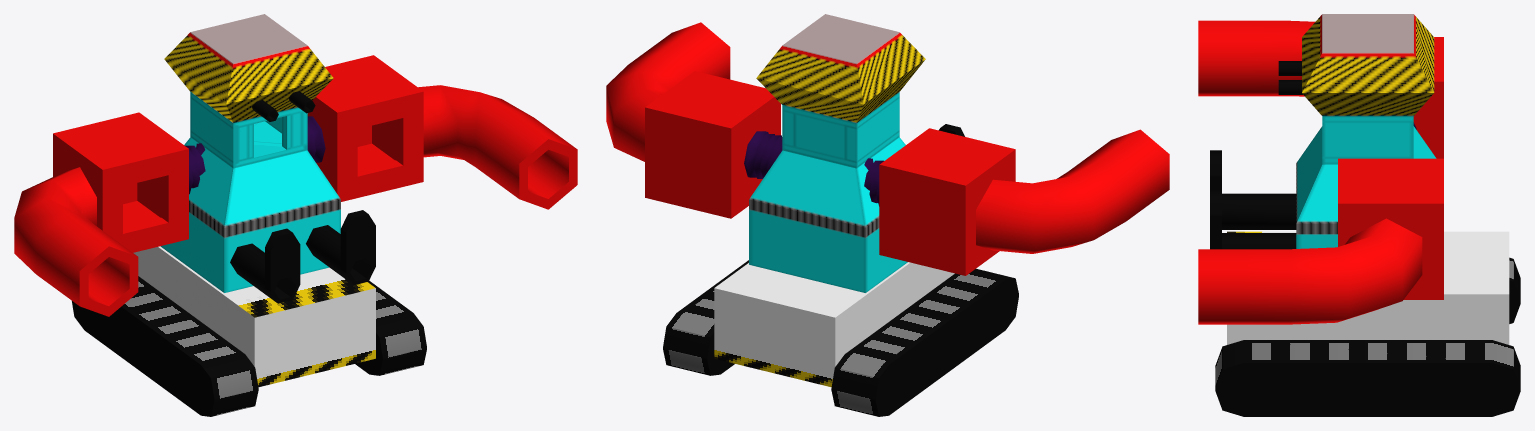
Rendered from MegaGenie.fbx.
3 views of the same model, side by side, from view 1: azimuth 30°, elevation 25°; view 2: azimuth 150°, elevation 25°; view 3: azimuth 270°, elevation 25° (orthographic). The views are drawn at different scales.
Visible parts, largest first — view 1: Box003, Box002, Box005, Box007, Box001, Tube002, Tube001, Box006, Cylinder001, Cylinder003, Hose002, Hose001; view 2: Box003, Box002, Box007, Box001, Tube001, Box005, Tube002, Box006, Hose002, Hose001; view 3: Box006, Box003, Tube002, Box002, Box007, Tube001, Cylinder001, Cylinder003, Box005, Box001, Cylinder004, Cylinder002.
Boxes of the visible parts, x1=… form: Box003: x1=160, y1=14, x2=340, y2=292; Box002: x1=133, y1=246, x2=375, y2=387; Box005: x1=53, y1=112, x2=188, y2=252; Box007: x1=307, y1=55, x2=423, y2=201; Box001: x1=72, y1=276, x2=258, y2=416; Tube002: x1=418, y1=85, x2=577, y2=209; Tube001: x1=14, y1=167, x2=138, y2=316; Box006: x1=355, y1=280, x2=426, y2=375; Cylinder001: x1=230, y1=228, x2=300, y2=303; Cylinder003: x1=306, y1=210, x2=375, y2=284; Hose002: x1=307, y1=116, x2=325, y2=162; Hose001: x1=185, y1=143, x2=205, y2=194; Box003: x1=749, y1=14, x2=925, y2=292; Box002: x1=714, y1=262, x2=954, y2=387; Box007: x1=645, y1=71, x2=780, y2=218; Box001: x1=831, y1=268, x2=1018, y2=416; Tube001: x1=976, y1=129, x2=1169, y2=253; Box005: x1=879, y1=128, x2=1015, y2=275; Tube002: x1=606, y1=22, x2=730, y2=161; Box006: x1=663, y1=260, x2=748, y2=375; Hose002: x1=744, y1=131, x2=782, y2=178; Hose001: x1=864, y1=158, x2=883, y2=206; Box006: x1=1215, y1=340, x2=1520, y2=416; Box003: x1=1296, y1=14, x2=1436, y2=248; Tube002: x1=1198, y1=218, x2=1422, y2=324; Box002: x1=1227, y1=231, x2=1509, y2=344; Box007: x1=1338, y1=158, x2=1443, y2=299; Tube001: x1=1198, y1=20, x2=1315, y2=96; Cylinder001: x1=1210, y1=150, x2=1296, y2=229; Cylinder003: x1=1210, y1=189, x2=1296, y2=249; Box005: x1=1413, y1=37, x2=1443, y2=158; Box001: x1=1509, y1=257, x2=1520, y2=323; Cylinder004: x1=1278, y1=80, x2=1302, y2=94; Cylinder002: x1=1278, y1=61, x2=1301, y2=75.
Bounding box in the file's own units: 115 × 68.26 × 60.77.
